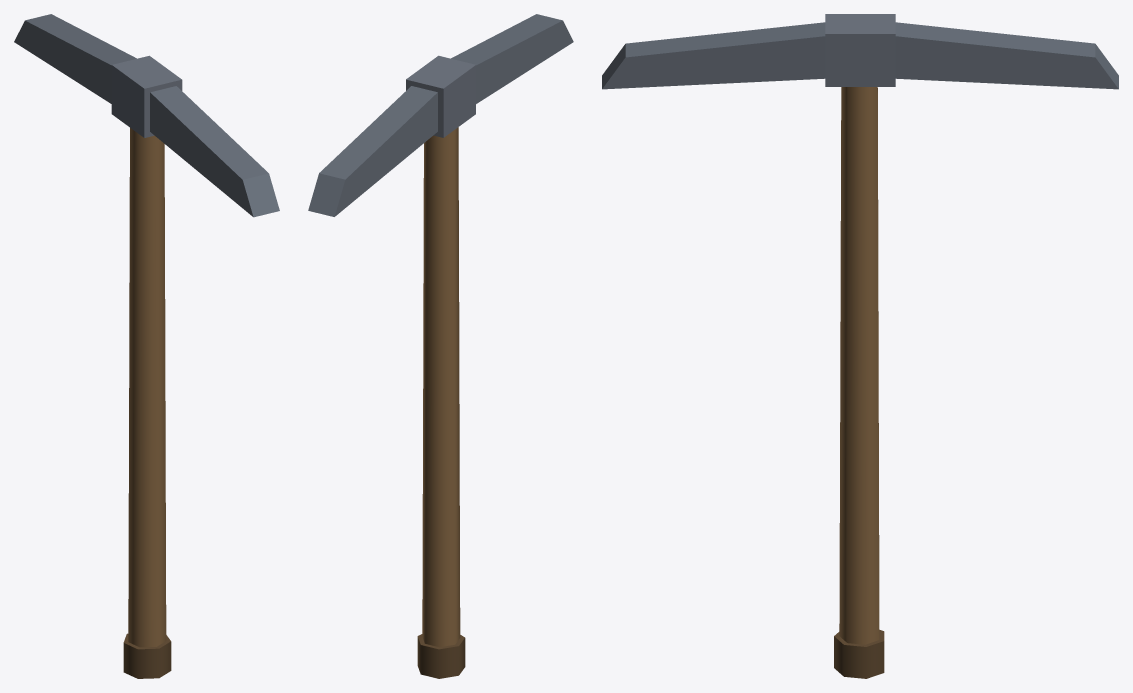
Rendered from tool_pickaxe.glb.
3 renders of one model, left to right at view 1: azimuth 30°, elevation 25°; view 2: azimuth 150°, elevation 25°; view 3: azimuth 270°, elevation 25°, orthographic. The views are drawn at different scales.
Visible parts, largest first — view 1: _MeshInstance3D_1203, _MeshInstance3D_1206, _MeshInstance3D_1205, _MeshInstance3D_1204; view 2: _MeshInstance3D_1203, _MeshInstance3D_1206, _MeshInstance3D_1205, _MeshInstance3D_1204; view 3: _MeshInstance3D_1206, _MeshInstance3D_1203, _MeshInstance3D_1205, _MeshInstance3D_1204.
Part boxes in pixels (x1,y1,x2,y2): _MeshInstance3D_1203: (128,128,166,647); _MeshInstance3D_1206: (14,14,279,217); _MeshInstance3D_1205: (111,55,182,137); _MeshInstance3D_1204: (123,633,171,678); _MeshInstance3D_1203: (422,127,460,647); _MeshInstance3D_1206: (308,14,573,216); _MeshInstance3D_1205: (406,55,475,137); _MeshInstance3D_1204: (417,634,465,678); _MeshInstance3D_1206: (602,22,1118,89); _MeshInstance3D_1203: (839,87,879,644); _MeshInstance3D_1205: (825,14,895,86); _MeshInstance3D_1204: (834,629,884,678).
Bounding box in the file's own units: 0.0439 × 0.605 × 0.44.
